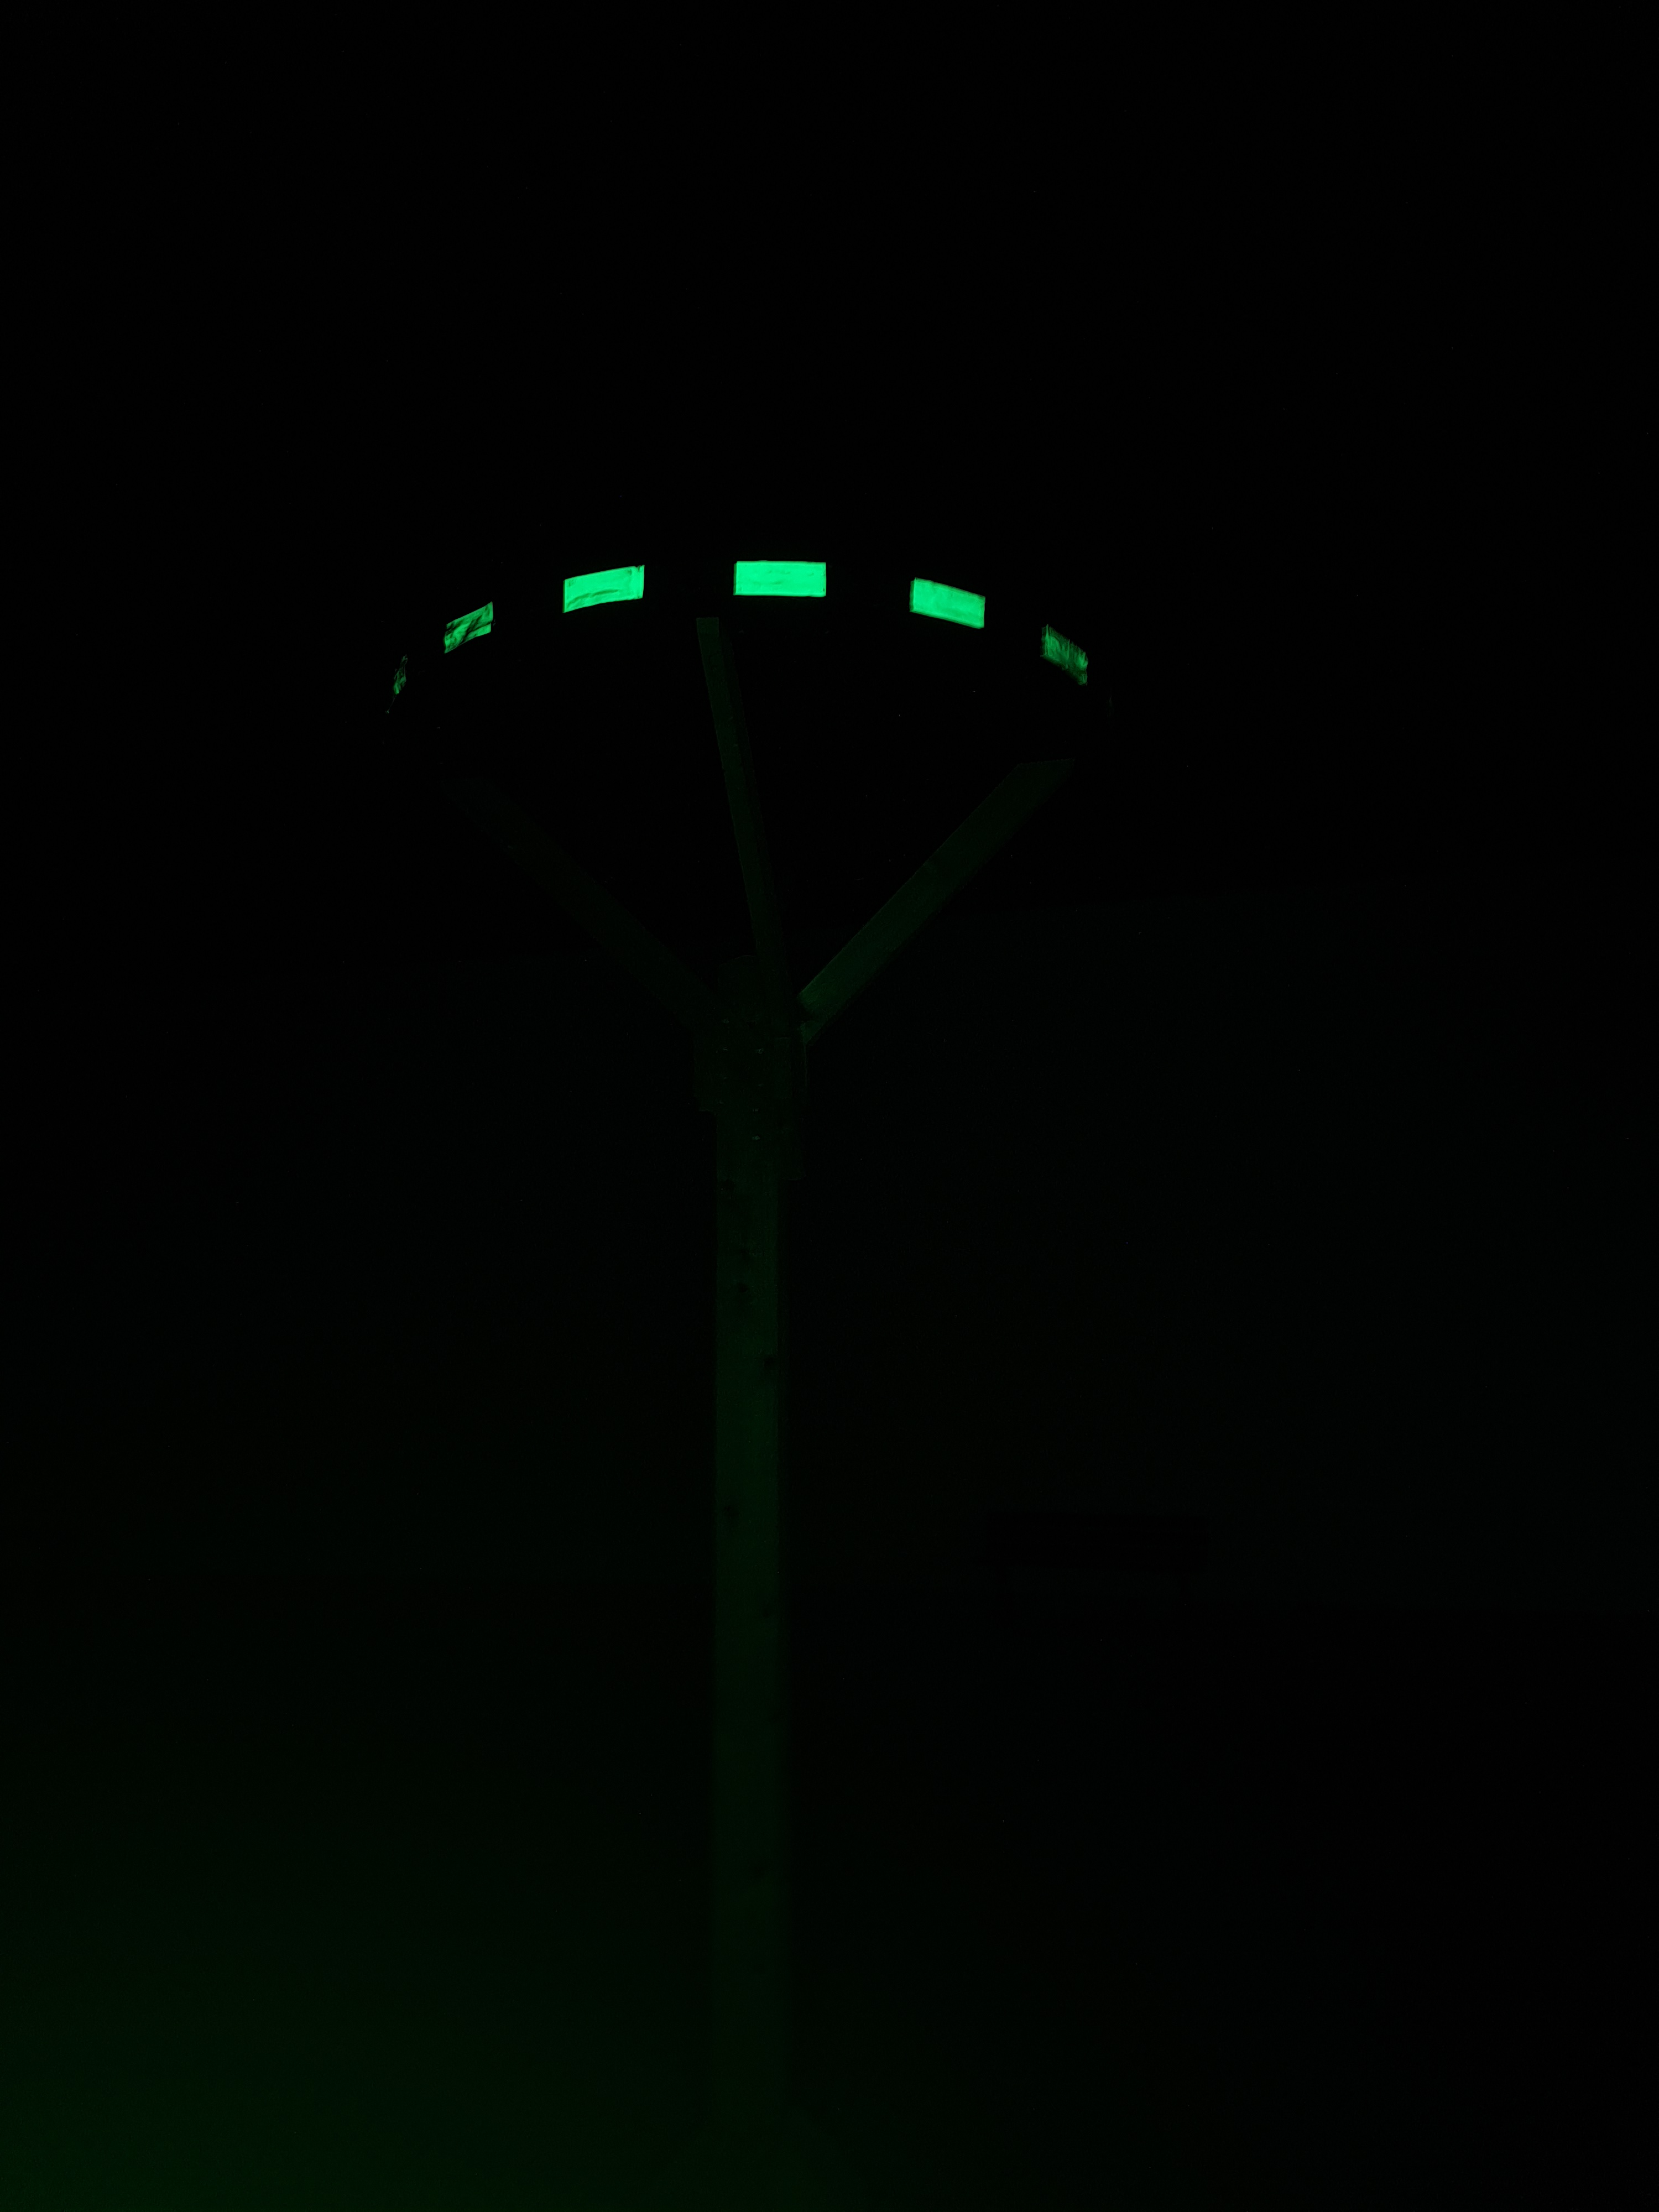hoop: (390, 557, 1089, 697)
